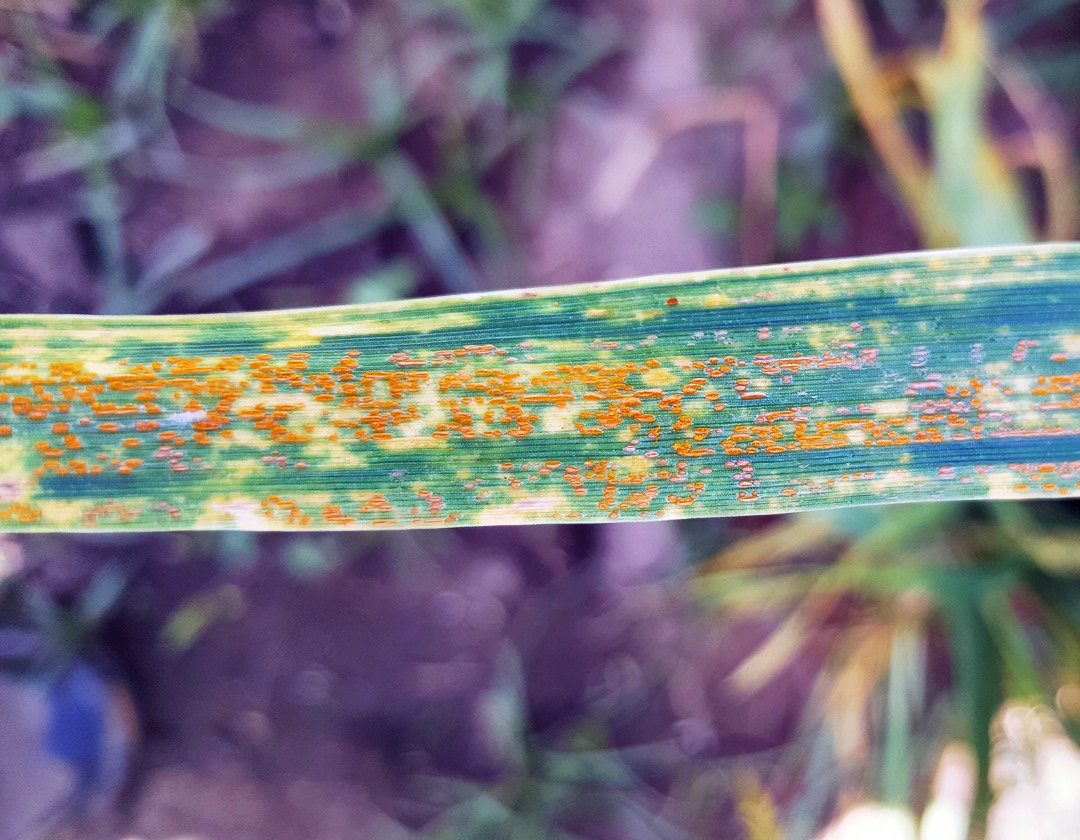Leaf Rust: (7, 277, 902, 532)
